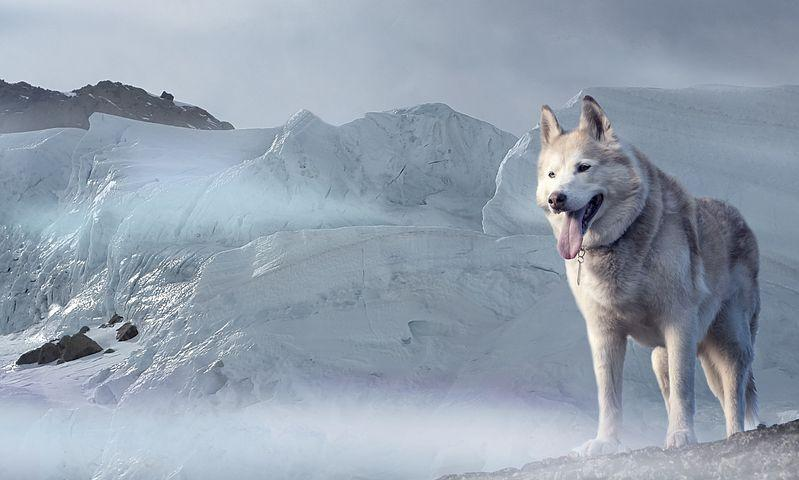Wolf: (535, 93, 775, 463)
